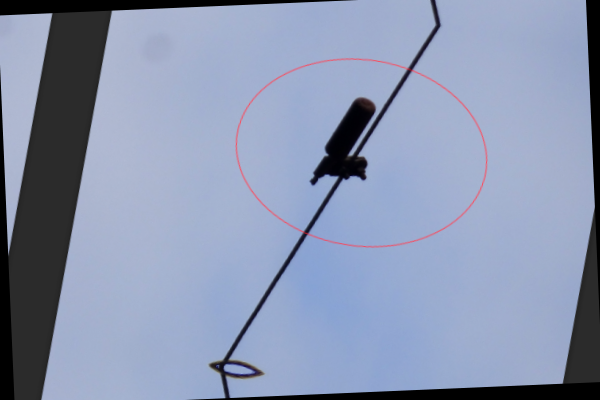damper_defect: (303, 95, 384, 189)
